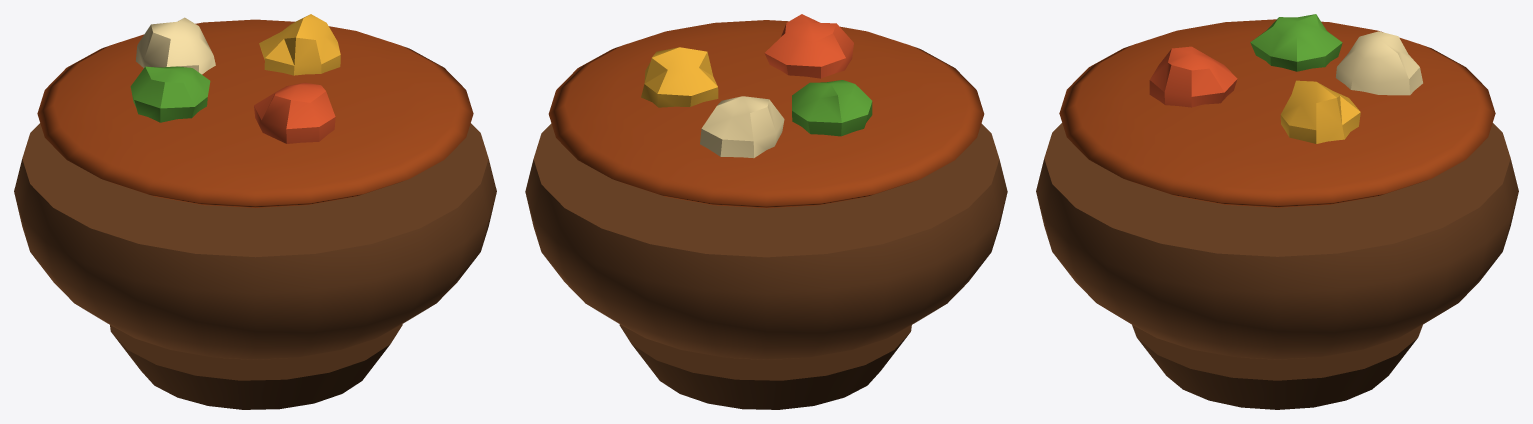
The model's file is CaveStew.fbx.
The picture shows the model from 3 angles, left to right: view 1: azimuth 30°, elevation 25°; view 2: azimuth 150°, elevation 25°; view 3: azimuth 270°, elevation 25°; orthographic projection.
Visible parts, largest first — view 1: Handle, Body, Dark, Spot.002, Spot.001, Spot, Spot.003; view 2: Handle, Body, Dark, Spot.003, Spot.002, Spot, Spot.001; view 3: Handle, Body, Dark, Spot.003, Spot.002, Spot, Spot.001.
Part boxes in pixels (box(x1,y1,x2,y2)): Handle: box(14, 123, 496, 359); Body: box(37, 19, 473, 207); Dark: box(110, 324, 402, 409); Spot.002: box(254, 82, 335, 143); Spot.001: box(130, 66, 210, 122); Spot: box(259, 14, 340, 75); Spot.003: box(136, 17, 215, 74); Handle: box(525, 123, 1007, 359); Body: box(548, 20, 984, 208); Dark: box(619, 324, 911, 409); Spot.003: box(700, 96, 784, 158); Spot.002: box(764, 14, 853, 78); Spot: box(641, 47, 718, 107); Spot.001: box(792, 80, 872, 136); Handle: box(1036, 123, 1518, 359); Body: box(1059, 19, 1495, 207); Dark: box(1132, 324, 1422, 409); Spot.003: box(1335, 31, 1422, 95); Spot.002: box(1149, 46, 1237, 107); Spot: box(1280, 80, 1360, 143); Spot.001: box(1250, 14, 1342, 71).
Size of the model in its own units: 1.24 by 0.8835 by 1.24.
